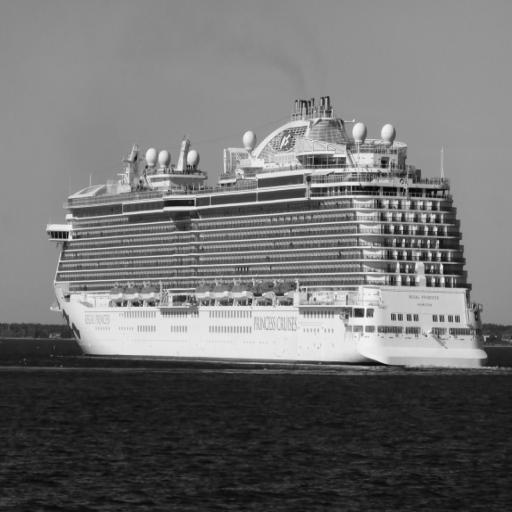cruises: (41, 93, 495, 375)
